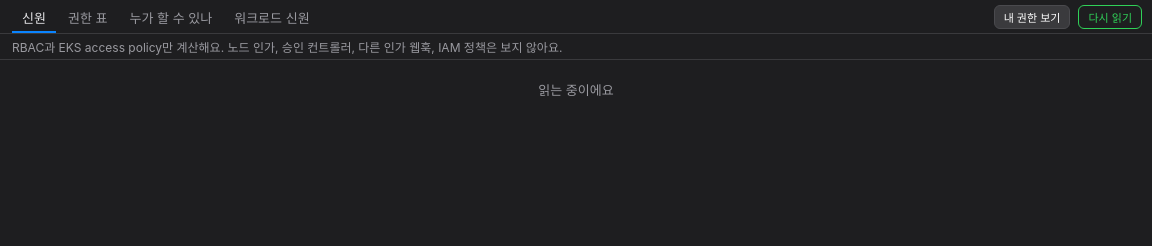
Test: who-can cross-check is disabled when this identity may not create access reviews
Step 1. Click the tab "누가 할 수 있나" → click(171, 18), box 120,4 -> 222,33
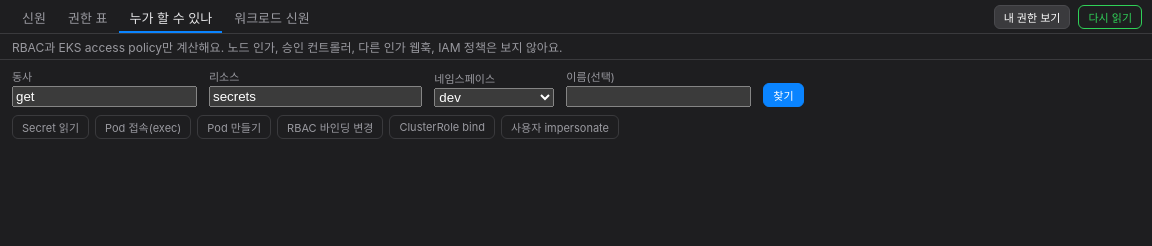
Step 2. Replace the text in the field labelled "리소스" with "pods" → (316, 96), box 209,86 -> 422,107
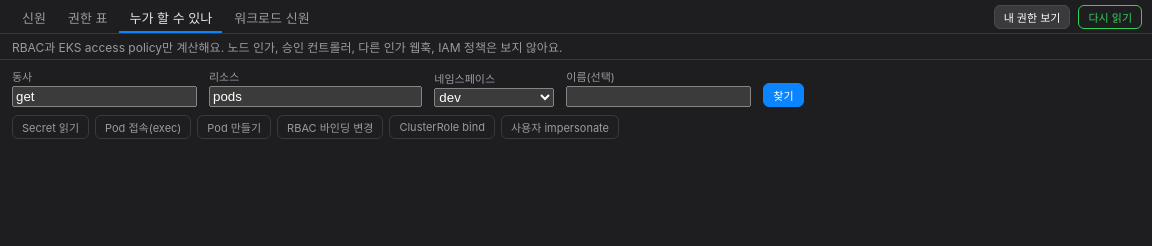
Step 3. Click the button "찾기" → click(783, 95), box 763,83 -> 804,107
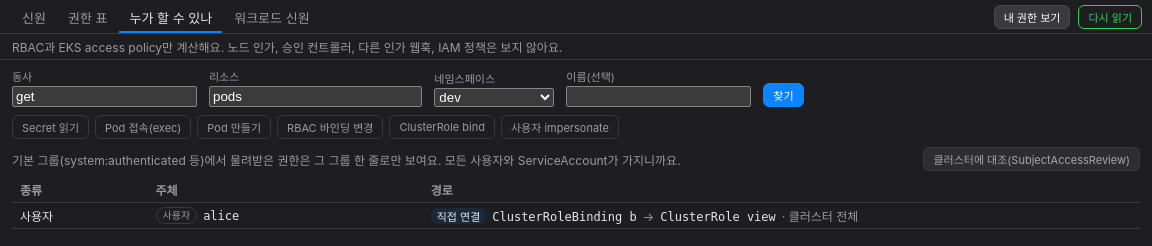
Result: the text "alice" is shown at 203,208 -> 239,222
Result: the button "클러스터에 대조(SubjectAccessReview)" is disabled at 923,147 -> 1140,171
